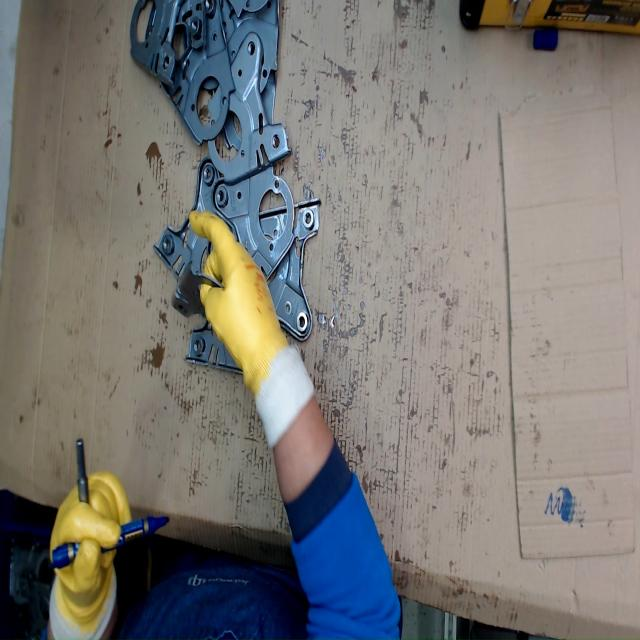hands: (186, 207, 308, 416), (46, 463, 136, 638)
